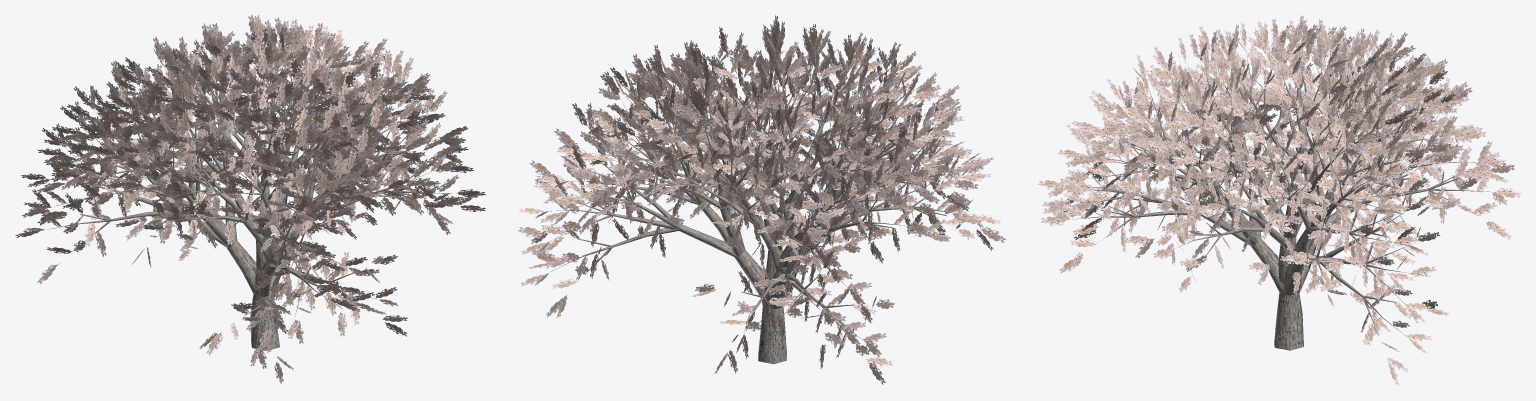
Rendered from SM_CherryTree.fbx.
The picture shows the model from 3 angles, left to right: view 1: azimuth 30°, elevation 25°; view 2: azimuth 150°, elevation 25°; view 3: azimuth 270°, elevation 25°; orthographic projection. The views are drawn at different scales.
Parts seen in each view (by area): view 1: SM_CherryTree; view 2: SM_CherryTree; view 3: SM_CherryTree.
Boxes of the visible parts, bbox=[...] form: SM_CherryTree: bbox=[15, 15, 485, 383]; SM_CherryTree: bbox=[518, 15, 1006, 384]; SM_CherryTree: bbox=[1038, 15, 1521, 385].
Size of the model in its own units: 84.08 by 62.41 by 88.22.
Materials: 2 (2 with a texture image).
